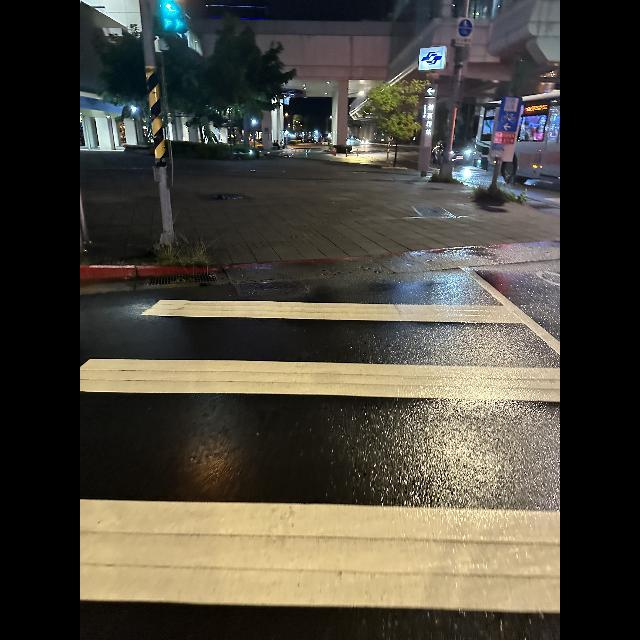sidewalk: (80, 298, 560, 613)
